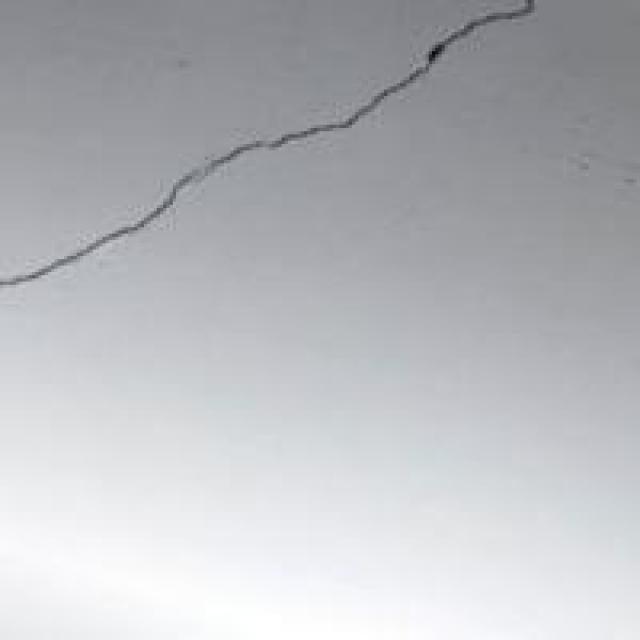Crack: (6, 10, 540, 333)
